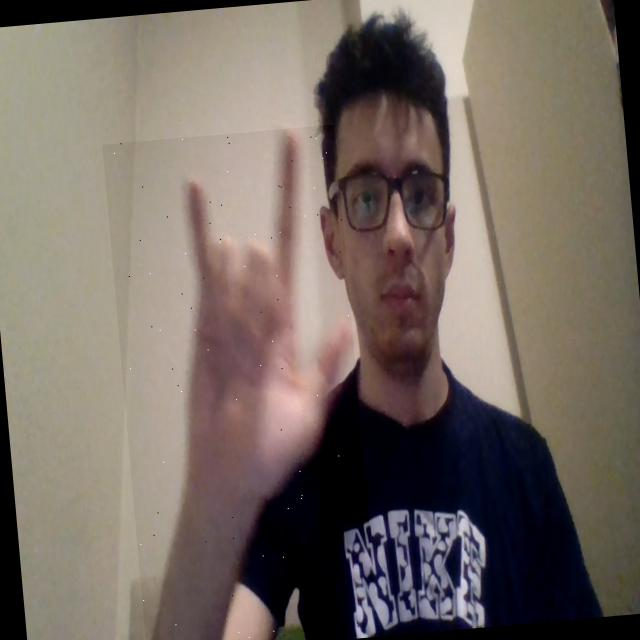iloveyou: (101, 123, 378, 640)
